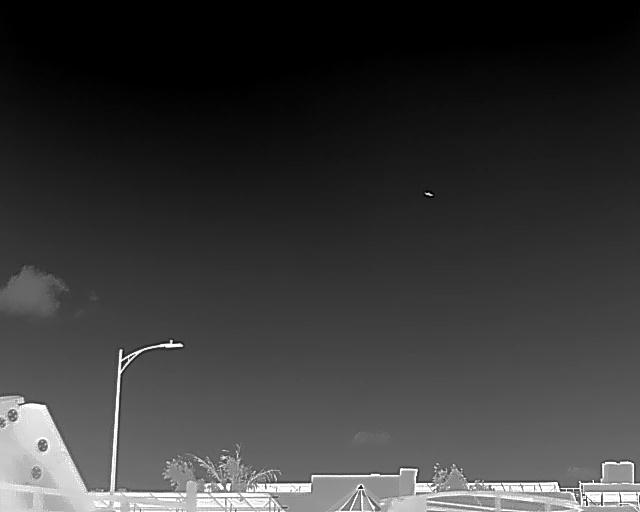fpv-drone: (424, 191, 433, 196)
